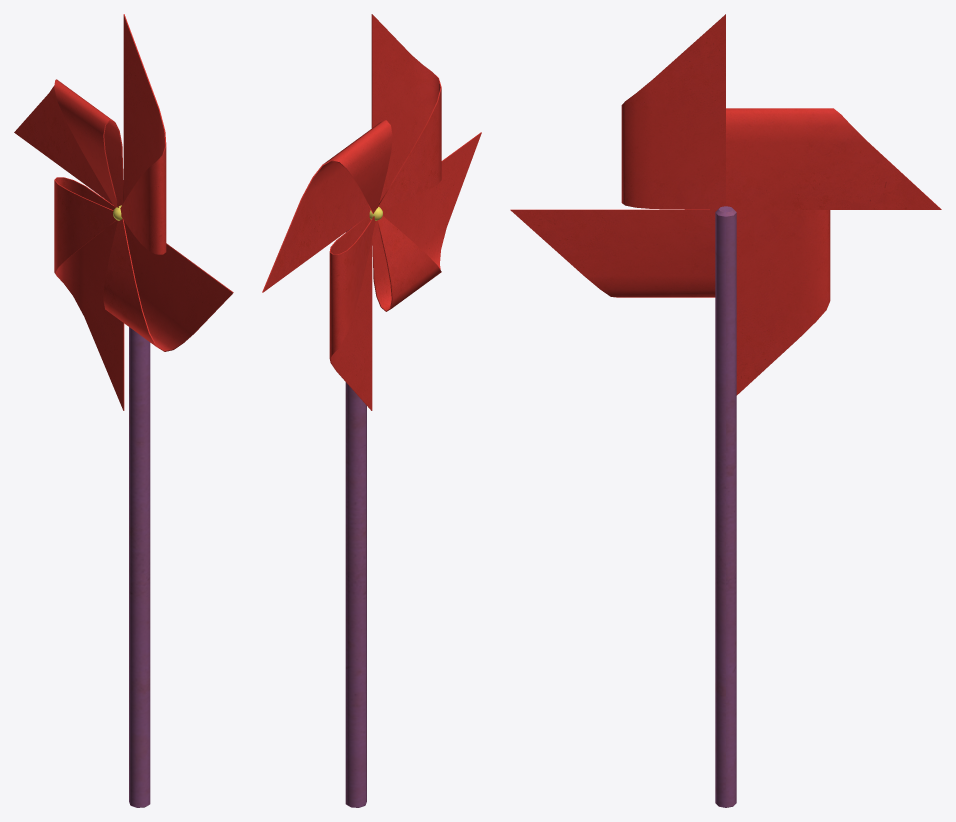
File: Pinwheel_04.fbx
The picture shows the model from 3 angles, left to right: view 1: azimuth 30°, elevation 25°; view 2: azimuth 150°, elevation 25°; view 3: azimuth 270°, elevation 25°; orthographic projection.
Visible parts, largest first — view 1: Pinwheel_Blades.004, Pinwheel_Handle.001; view 2: Pinwheel_Blades.004, Pinwheel_Handle.001; view 3: Pinwheel_Blades.004, Pinwheel_Handle.001.
Part boxes in pixels (bbox=[...]): Pinwheel_Blades.004: bbox=[14, 14, 233, 410]; Pinwheel_Handle.001: bbox=[129, 327, 150, 807]; Pinwheel_Blades.004: bbox=[262, 14, 481, 410]; Pinwheel_Handle.001: bbox=[345, 228, 366, 807]; Pinwheel_Blades.004: bbox=[510, 14, 941, 395]; Pinwheel_Handle.001: bbox=[715, 206, 736, 807].
Size of the model in its own units: 0.242 by 2 by 4.
